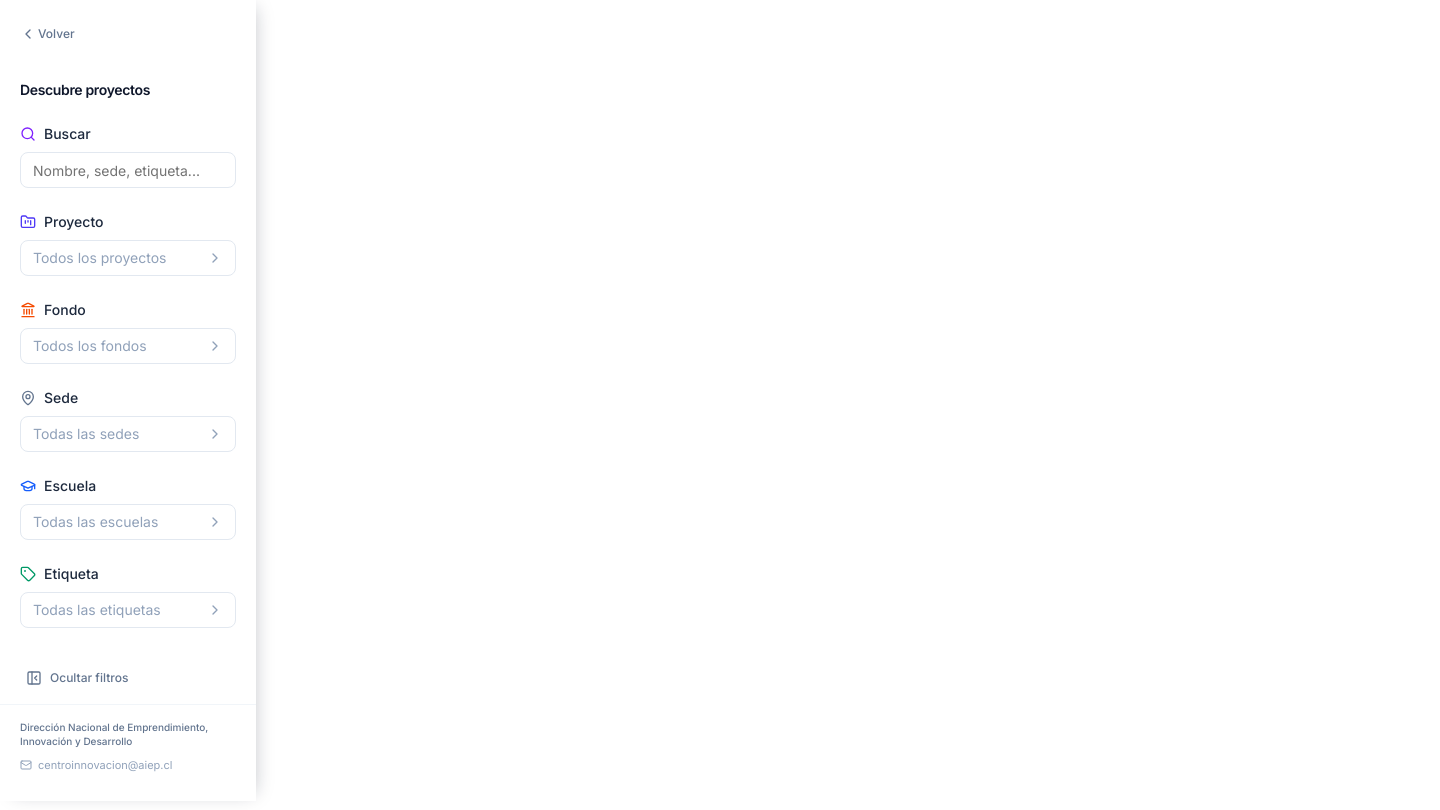
VitrinaProjectsSidebar › lista proyectos en el facet Proyecto
Click the button "Todos los proyectos": (128, 258) [20,240,236,276]
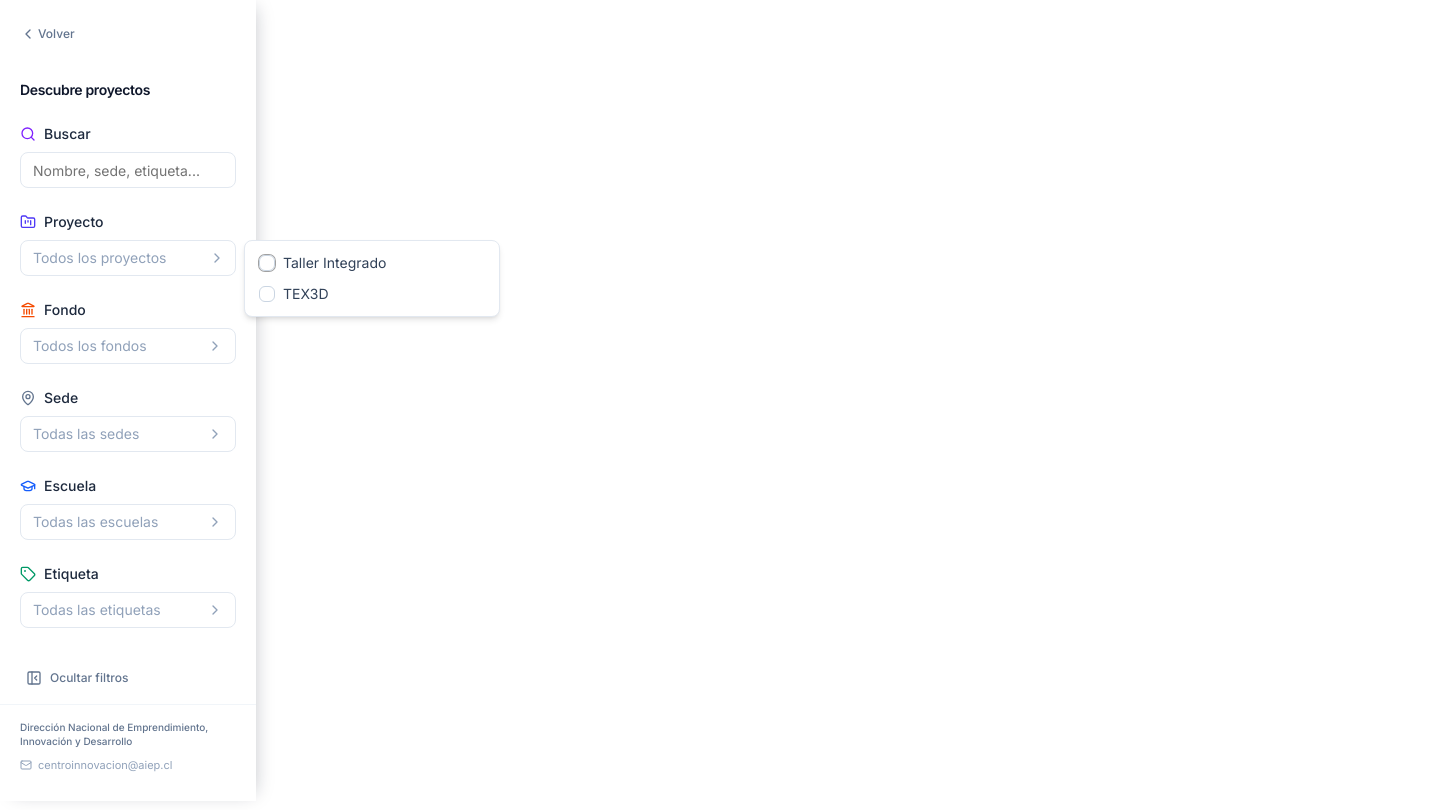
Result: the dialog named "Proyecto" shows "Taller Integrado" at [283,254,386,271]
Result: the dialog named "Proyecto" shows "TEX3D" at [283,285,328,302]
